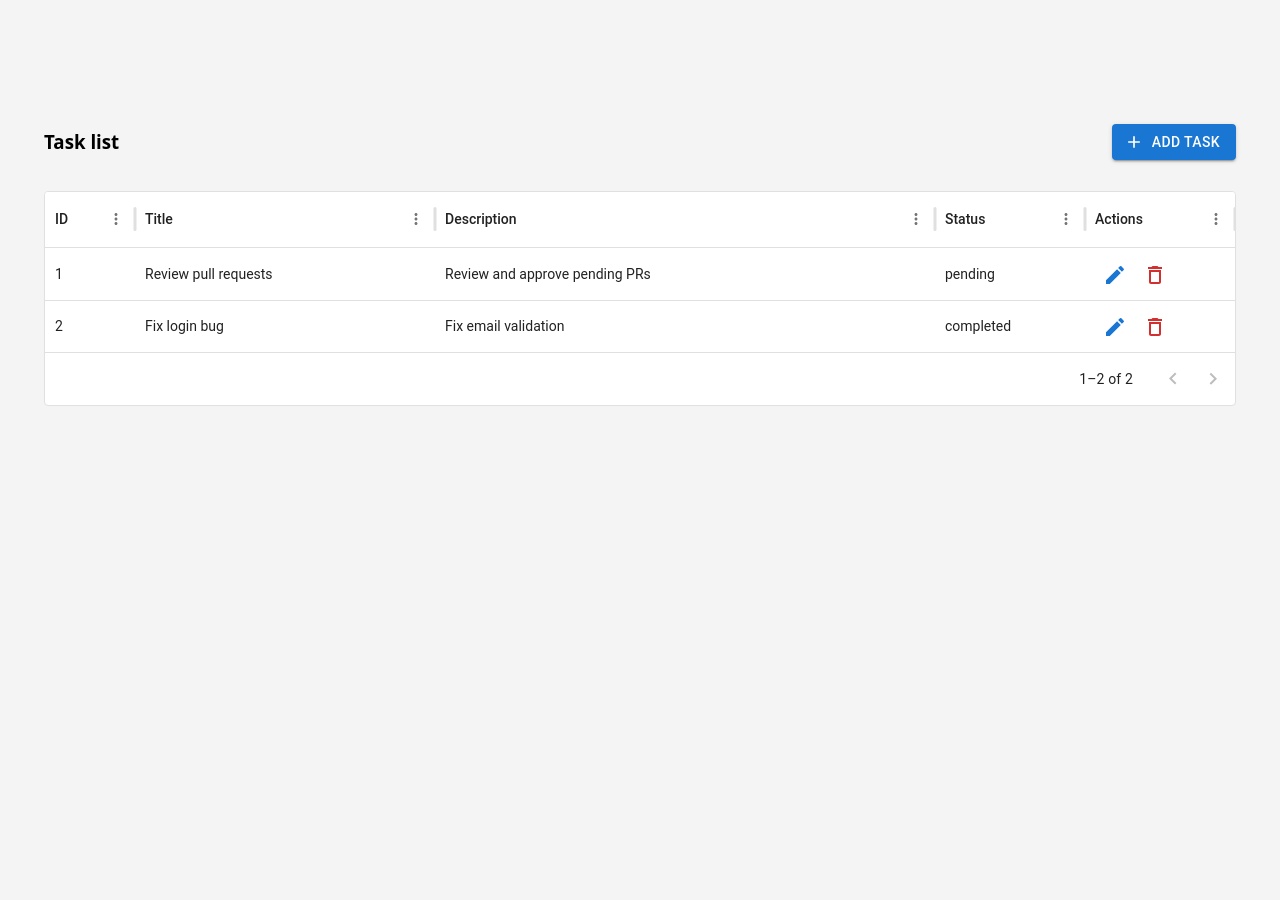
Test case: Tasks › Delete Task › shows delete confirmation dialog when delete icon is clicked
The image size is (1280, 900).
Expected: the text "Review pull requests" is shown, 145,266 -> 273,282
Click the button named "Delete" in the row of "Review pull requests" at (1155, 275), box 1135,255 -> 1175,295
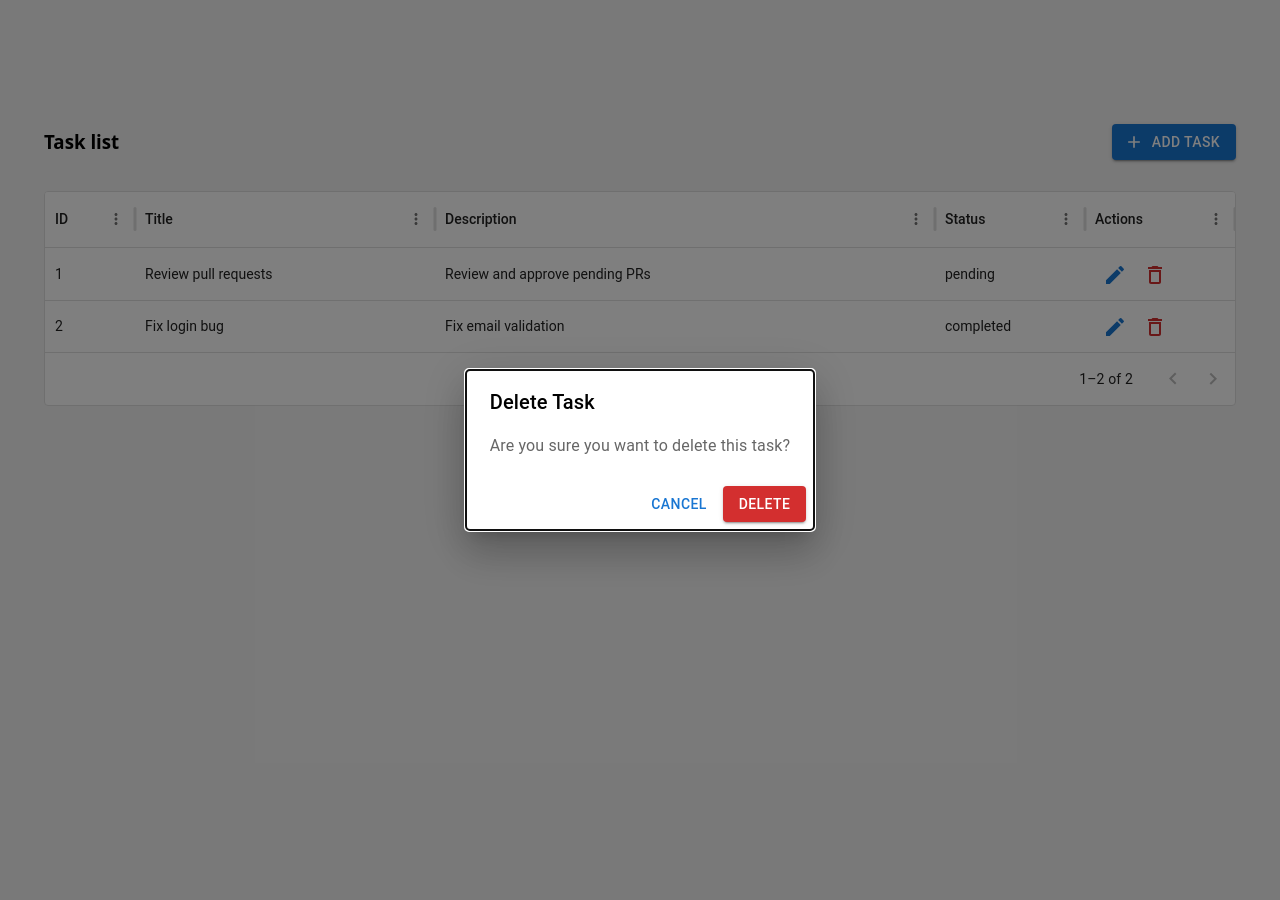
Expected: the text "Are you sure you want to delete this task?" is shown, 490,434 -> 790,458
